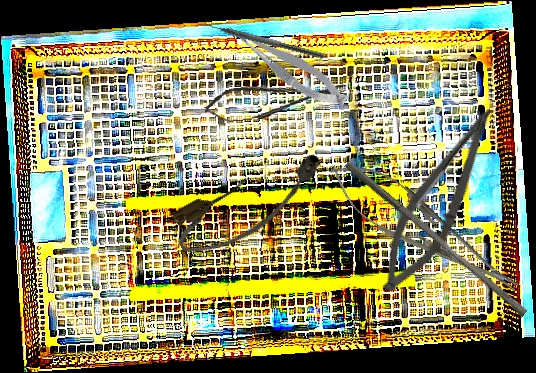Cannula: (164, 143, 337, 265)
Chopper: (199, 14, 327, 60)
Micro Scissor: (367, 94, 508, 304), (221, 8, 353, 121), (202, 76, 348, 125)
Needle Holder: (317, 146, 531, 311)
Pusher: (338, 160, 533, 318)
